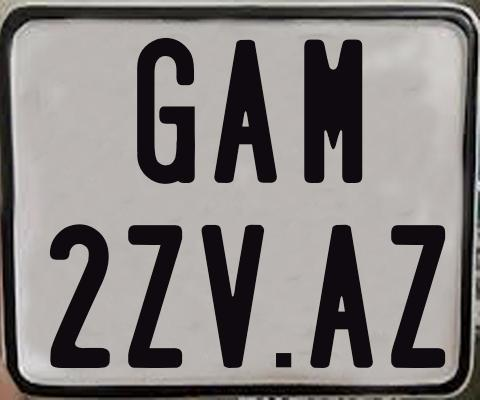2: (47, 222, 113, 372)
A: (308, 225, 373, 374), (211, 38, 274, 184)
G: (135, 36, 195, 184)
M: (301, 37, 360, 187)
V: (199, 224, 262, 370)
Z: (388, 222, 448, 365), (128, 222, 186, 367)
